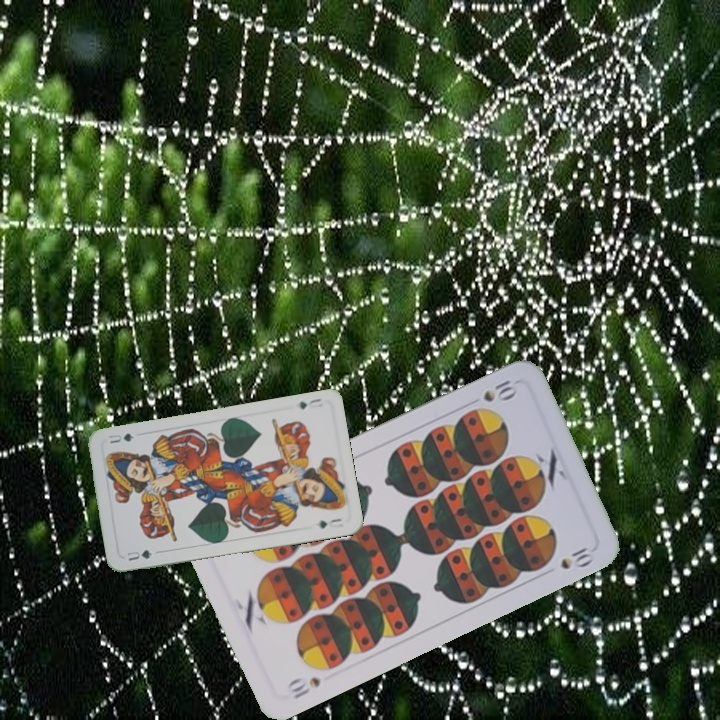GU: (123, 546, 155, 564), (294, 394, 325, 412)
S10: (479, 375, 518, 405), (283, 673, 323, 702)
